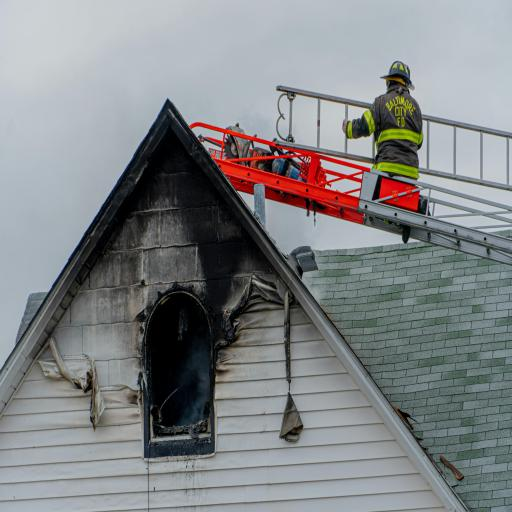buildingfire: (19, 82, 299, 460)
